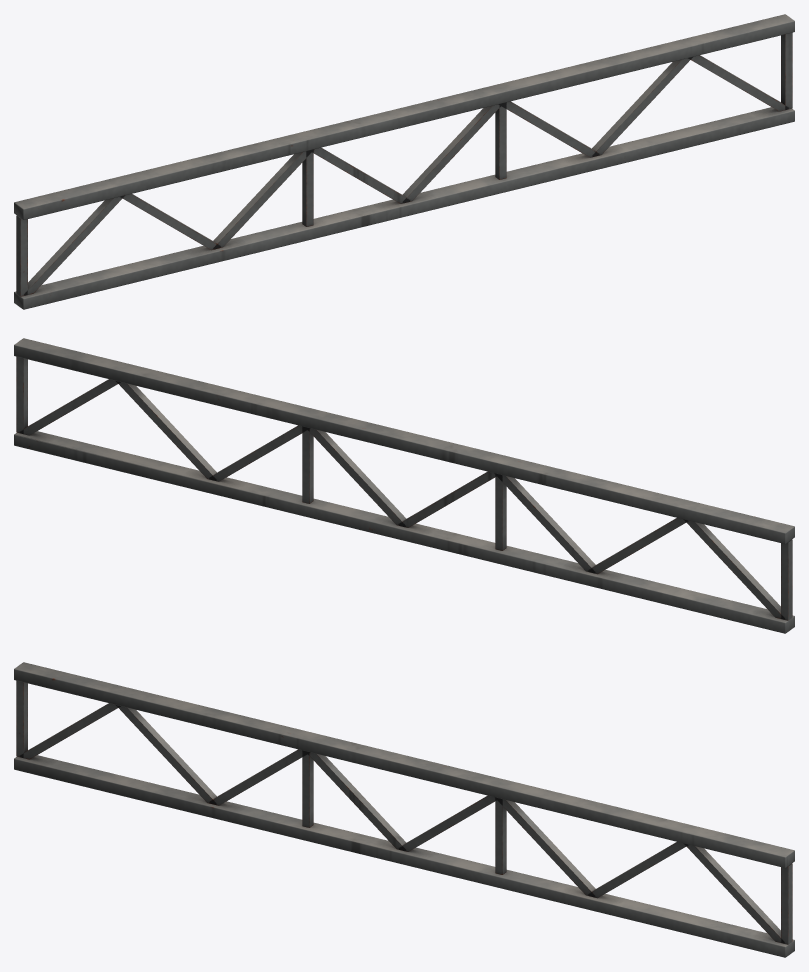
The model's file is roof_truss.fbx.
3 renders of one model, top to bottom at view 1: azimuth 30°, elevation 25°; view 2: azimuth 150°, elevation 25°; view 3: azimuth 330°, elevation 25°, orthographic.
Parts seen in each view (by area): view 1: Body; view 2: Body; view 3: Body.
Part boxes in pixels (<box>): Body: <box>14,14,794,309</box>; Body: <box>14,338,794,633</box>; Body: <box>14,662,794,957</box>.
Size of the model in its own units: 32 by 4 by 0.7.
1 material, 1 textured.
